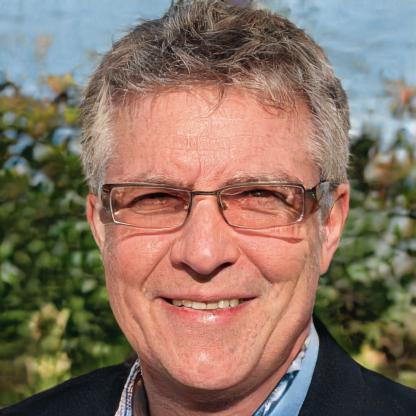glasses: (96, 175, 314, 239)
